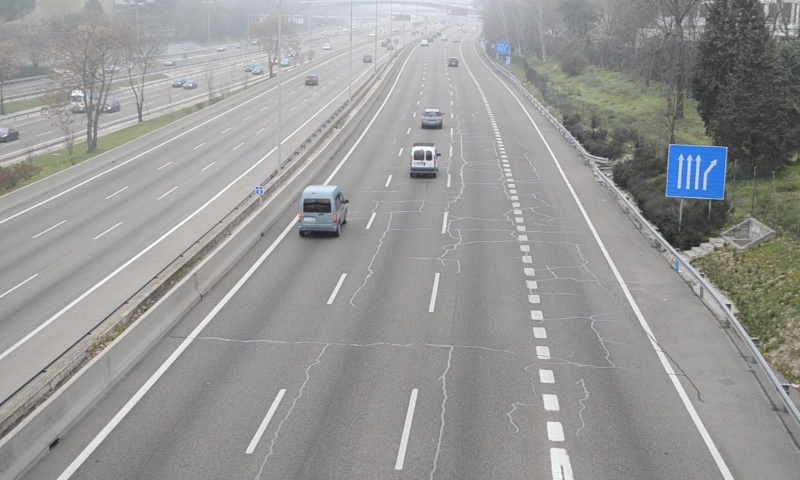car: (420, 108, 443, 128)
van: (298, 186, 347, 234), (410, 144, 436, 176)
